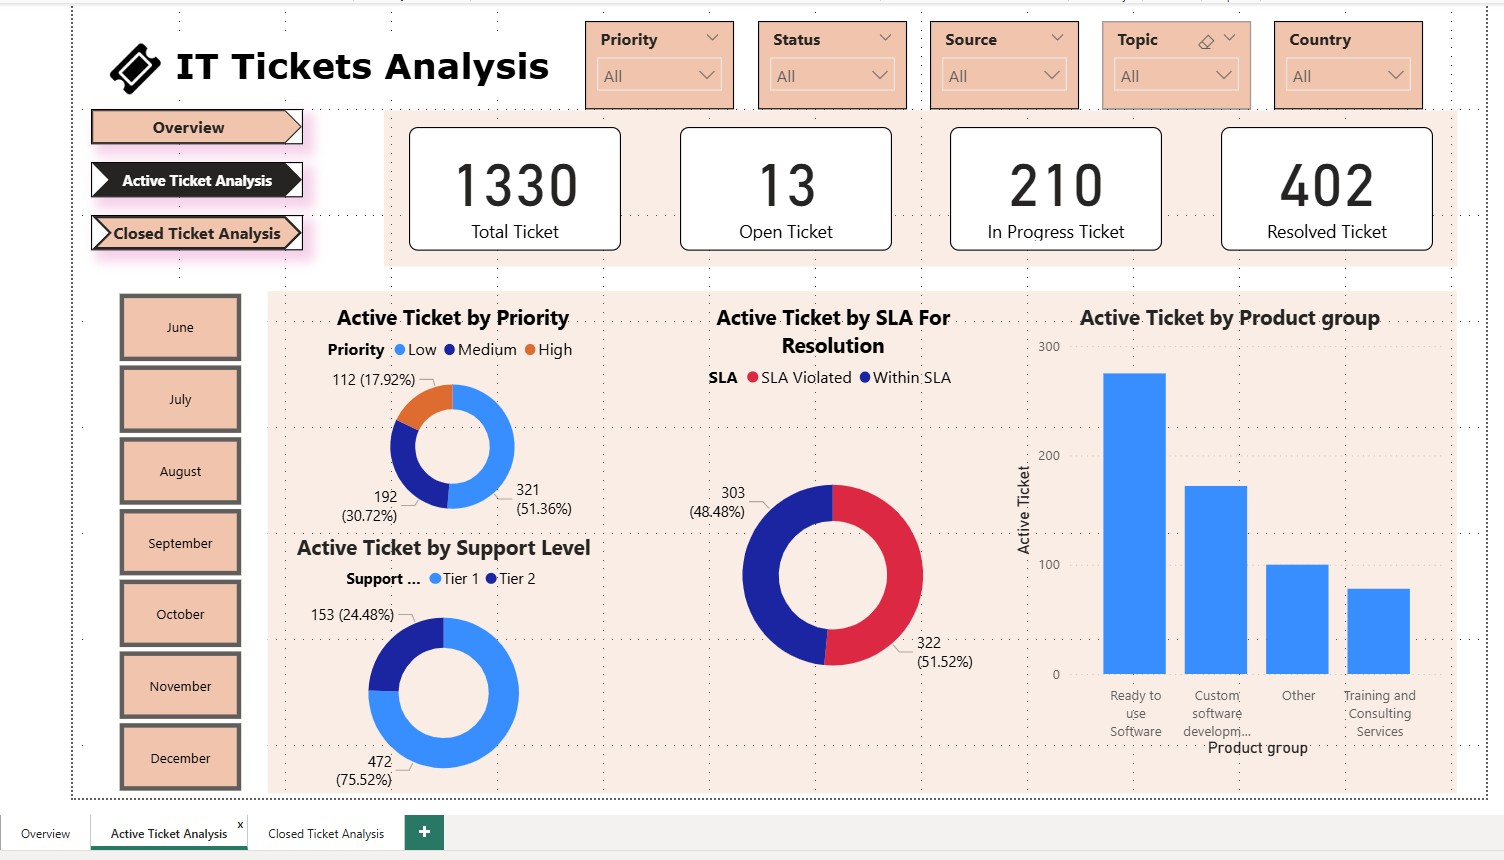

The page's visual inventory and layout, read from the dashboard file:
{"tool":"powerbi","page":{"name":"Active Ticket Analysis","canvas":[1280,720],"ordinal":1},"visuals":[{"type":"basicShape","box":[160,256,1104,464],"z":0},{"type":"basicShape","box":[272,96,992,144],"z":1000},{"type":"textbox","box":[88,32,368,56],"z":2000},{"type":"donutChart","fields":{"Category":["Data.Priority"],"Y":["All Measures.Active Ticket"]},"box":[192,272,304,208],"z":3000},{"type":"image","box":[24,32,64,56],"z":4000},{"type":"slicer","fields":{"Values":["Data.Status"]},"box":[620,16,135,80],"z":5000},{"type":"slicer","fields":{"Values":["Data.Priority"]},"box":[464,16,135,80],"z":6000},{"type":"slicer","fields":{"Values":["Data.Source"]},"box":[776,16,135,80],"z":7000},{"type":"slicer","fields":{"Values":["Data.Topic"]},"box":[932,16,135,80],"z":8000},{"type":"card","fields":{"Values":["All Measures.Total Ticket"]},"box":[304,112,192,112],"z":9000},{"type":"card","fields":{"Values":["All Measures.Open Ticket"]},"box":[549.3,112,192,112],"z":10000},{"type":"card","fields":{"Values":["All Measures.In Progress Ticket"]},"box":[794.7,112,192,112],"z":11000},{"type":"card","fields":{"Values":["All Measures.Resolved Ticket"]},"box":[1040,112,192,112],"z":12000},{"type":"donutChart","fields":{"Category":["Data.Support Level"],"Y":["All Measures.Active Ticket"]},"box":[176,480,320,240],"z":13000},{"type":"columnChart","fields":{"Category":["Data.Product group"],"Y":["All Measures.Active Ticket"]},"box":[848,272,400,416],"z":14000},{"type":"slicer","fields":{"Values":["Data.Country"]},"box":[1088,16,135,80],"z":15000},{"type":"pageNavigator","box":[16,96,192,32],"z":16000},{"type":"pageNavigator","box":[16,144,192,32],"z":17000},{"type":"pageNavigator","box":[16,192,192,32],"z":18000},{"type":"slicer","fields":{"Values":["Data.Month Name Ticket Created"]},"box":[16,256,160,464],"z":19000},{"type":"donutChart","fields":{"Y":["All Measures.Active Ticket"],"Category":["Data.SLA For Resolution"]},"box":[544,272,288,416],"z":20000}]}

Visuals, with their boxes on the page's 1280x720 design canvas (x1, y1, x2, y2). These are canvas units, not pixel positions in the 1504x860 screenshot, which may show the page scaled, cropped or inside an application window:
basicShape: 160/256/1264/720
basicShape: 272/96/1264/240
textbox: 88/32/456/88
donutChart - Data.Priority x All Measures.Active Ticket: 192/272/496/480
image: 24/32/88/88
slicer - Data.Status: 620/16/755/96
slicer - Data.Priority: 464/16/599/96
slicer - Data.Source: 776/16/911/96
slicer - Data.Topic: 932/16/1067/96
card - All Measures.Total Ticket: 304/112/496/224
card - All Measures.Open Ticket: 549/112/741/224
card - All Measures.In Progress Ticket: 795/112/987/224
card - All Measures.Resolved Ticket: 1040/112/1232/224
donutChart - Data.Support Level x All Measures.Active Ticket: 176/480/496/720
columnChart - Data.Product group x All Measures.Active Ticket: 848/272/1248/688
slicer - Data.Country: 1088/16/1223/96
pageNavigator: 16/96/208/128
pageNavigator: 16/144/208/176
pageNavigator: 16/192/208/224
slicer - Data.Month Name Ticket Created: 16/256/176/720
donutChart - All Measures.Active Ticket x Data.SLA For Resolution: 544/272/832/688
